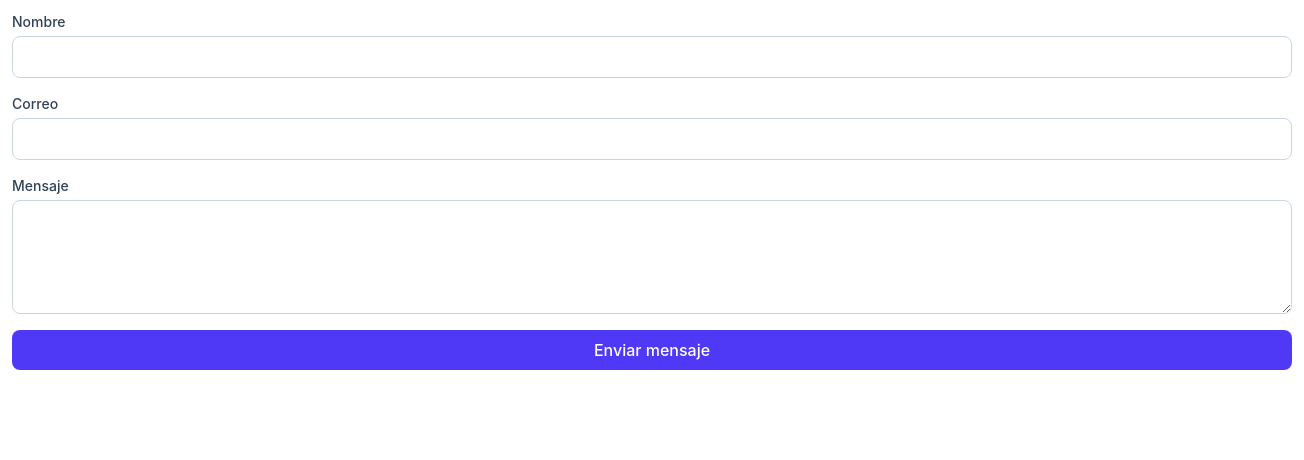
Test: ContactForm › muestra errores de validación si se envía vacío
The width and height of the screenshot is (1304, 460).
Click the button "Enviar mensaje".
click(652, 350)  # box [12, 330, 1292, 370]
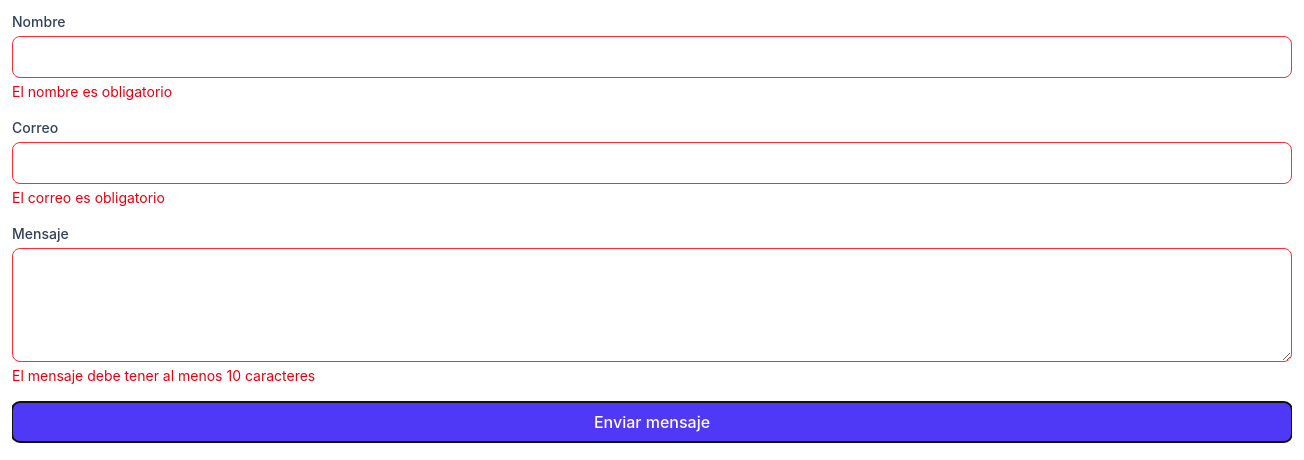
Now the text "El nombre es obligatorio" is shown, box [12, 83, 172, 100]
Now the text "El correo es obligatorio" is shown, box [12, 189, 165, 206]
